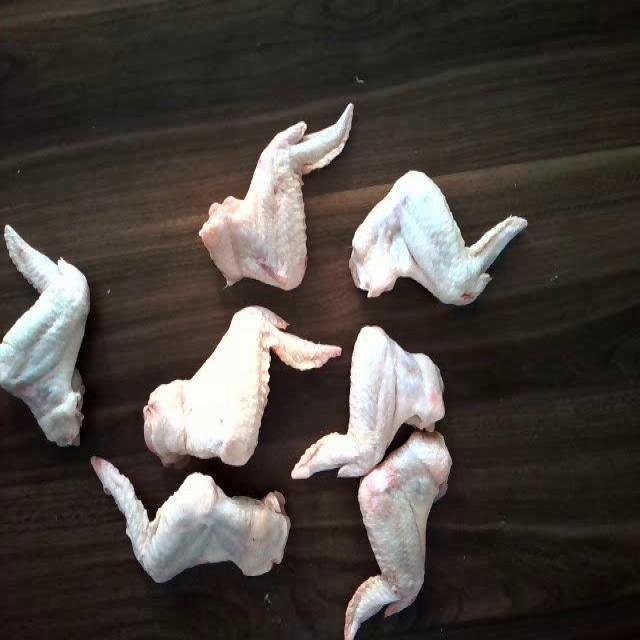wing: (117, 302, 338, 464), (83, 446, 290, 590), (196, 99, 348, 294), (340, 164, 534, 316), (340, 426, 456, 640), (287, 319, 443, 475), (0, 214, 91, 448)
